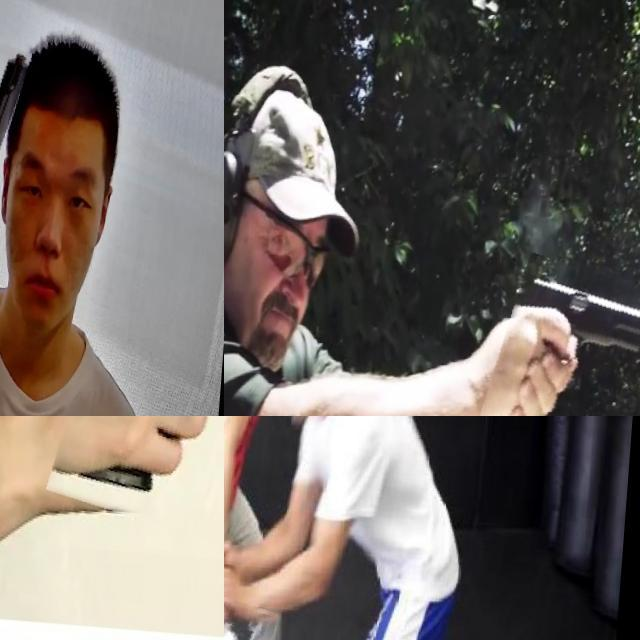-: (224, 589, 283, 640)
gun-knife-thesis - v11 Yolov5 augmented: (67, 416, 224, 617), (489, 249, 640, 416), (0, 22, 62, 306)
